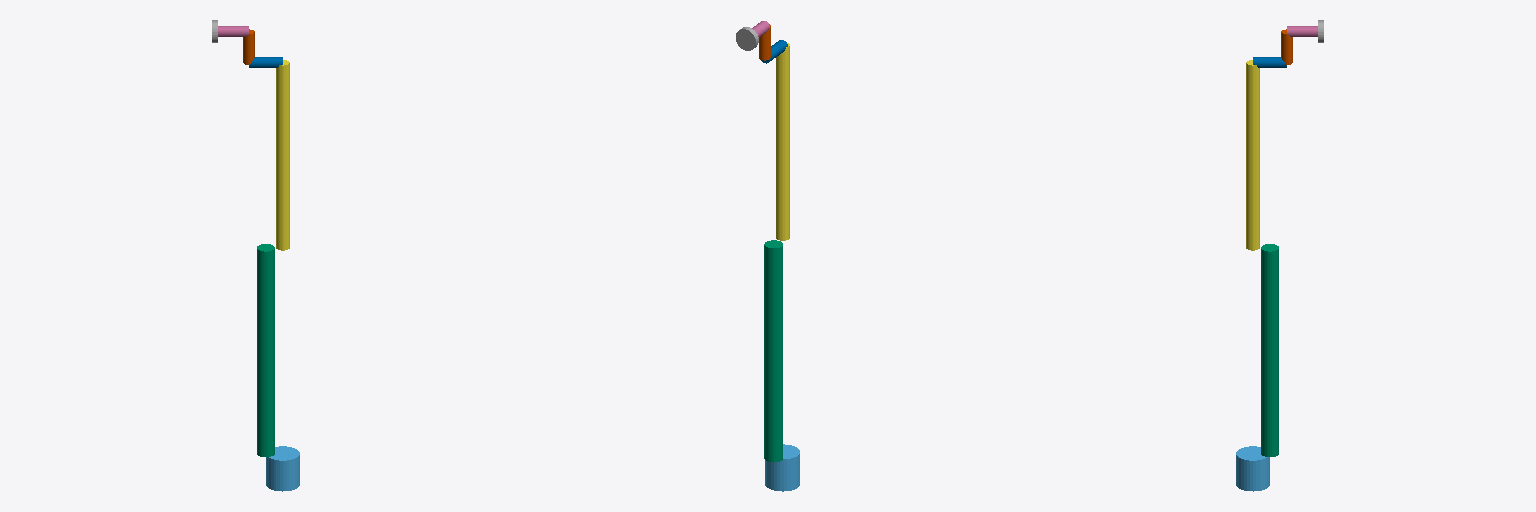
robot.urdf — universal_robot_extended:
<?xml version="1.0" ?>
<robot name="universal_robot_extended">

  <link name="base_link"/>

  <joint name="shoulder_pan_joint" type="revolute">
    <parent link="base_link"/>
    <child link="shoulder_link"/>
    <origin rpy="0.0 0.0 0.0" xyz="0.0 0.0 0.3"/>
    <axis xyz="0.0 0.0 1.0"/>
    <limit effort="10.0" lower="-3.14" upper="3.14" velocity="1.0"/>
  </joint>

  <link name="shoulder_link">
    <visual>
      <geometry>
        <cylinder length="0.3" radius="0.15"/>
      </geometry>
      <origin rpy="0.0 0.0 0.0" xyz="0.0 0.0 -0.15"/>
    </visual>
    <collision>
      <geometry>
        <cylinder length="0.3" radius="0.15"/>
      </geometry>
      <origin rpy="0.0 0.0 0.0" xyz="0.0 0.0 -0.15"/>
    </collision>
  </link>

  <joint name="shoulder_lift_joint" type="revolute">
    <parent link="shoulder_link"/>
    <child link="upper_arm_link"/>
    <origin rpy="0.0 0.0 0.0" xyz="0.0 0.15 0.0"/>
    <axis xyz="0.0 1.0 0.0"/>
    <limit effort="10.0" lower="-3.14" upper="3.14" velocity="1.0"/>
  </joint>

  <link name="upper_arm_link">
    <visual>
      <geometry>
        <cylinder length="2.0" radius="0.08"/>
      </geometry>
      <origin rpy="0.0 0.0 0.0" xyz="0.0 0.0 1.0"/>
    </visual>
    <collision>
      <geometry>
        <cylinder length="2.0" radius="0.08"/>
      </geometry>
      <origin rpy="0.0 0.0 0.0" xyz="0.0 0.0 1.0"/>
    </collision>
  </link>

  <joint name="elbow_joint" type="revolute">
    <parent link="upper_arm_link"/>
    <child link="forearm_link"/>
    <origin rpy="0.0 0.0 0.0" xyz="0.0 -0.15 2.0"/>
    <axis xyz="0.0 -1.0 0.0"/>
    <limit effort="10.0" lower="-3.14" upper="3.14" velocity="1.0"/>
  </joint>

  <link name="forearm_link">
    <visual>
      <geometry>
        <cylinder length="1.8" radius="0.06"/>
      </geometry>
      <origin rpy="0.0 0.0 0.0" xyz="0.0 0.0 0.9"/>
    </visual>
    <collision>
      <geometry>
        <cylinder length="1.8" radius="0.06"/>
      </geometry>
      <origin rpy="0.0 0.0 0.0" xyz="0.0 0.0 0.9"/>
    </collision>
  </link>

  <joint name="wrist_1_joint" type="revolute">
    <parent link="forearm_link"/>
    <child link="wrist_1_link"/>
    <origin rpy="0.0 0.0 0.0" xyz="0.0 0.0 1.8"/>
    <axis xyz="0.0 1.0 0.0"/>
    <limit effort="10.0" lower="-3.14" upper="3.14" velocity="1.0"/>
  </joint>

  <link name="wrist_1_link">
    <visual>
      <geometry>
        <cylinder length="0.3" radius="0.05"/>
      </geometry>
      <origin rpy="-1.57 0.0 0.0" xyz="0.0 0.15 0.0"/>
    </visual>
    <collision>
      <geometry>
        <cylinder length="0.3" radius="0.05"/>
      </geometry>
      <origin rpy="-1.57 0.0 0.0" xyz="0.0 0.15 0.0"/>
    </collision>
  </link>

  <joint name="wrist_2_joint" type="revolute">
    <parent link="wrist_1_link"/>
    <child link="wrist_2_link"/>
    <origin rpy="0.0 0.0 0.0" xyz="0.0 0.3 0.0"/>
    <axis xyz="0.0 0.0 1.0"/>
    <limit effort="10.0" lower="-3.14" upper="3.14" velocity="1.0"/>
  </joint>

  <link name="wrist_2_link">
    <visual>
      <geometry>
        <cylinder length="0.3" radius="0.05"/>
      </geometry>
      <origin rpy="0.0 0.0 0.0" xyz="0.0 0.0 0.15"/>
    </visual>
    <collision>
      <geometry>
        <cylinder length="0.3" radius="0.05"/>
      </geometry>
      <origin rpy="0.0 0.0 0.0" xyz="0.0 0.0 0.15"/>
    </collision>
  </link>

  <joint name="wrist_3_joint" type="revolute">
    <parent link="wrist_2_link"/>
    <child link="wrist_3_link"/>
    <origin rpy="0.0 0.0 0.0" xyz="0.0 0.0 0.3"/>
    <axis xyz="0.0 1.0 0.0"/>
    <limit effort="10.0" lower="-3.14" upper="3.14" velocity="1.0"/>
  </joint>

  <link name="wrist_3_link">
    <visual>
      <geometry>
        <cylinder length="0.3" radius="0.05"/>
      </geometry>
      <origin rpy="-1.57 0.0 0.0" xyz="0.0 0.15 0.0"/>
    </visual>
    <collision>
      <geometry>
        <cylinder length="0.3" radius="0.05"/>
      </geometry>
      <origin rpy="-1.57 0.0 0.0" xyz="0.0 0.15 0.0"/>
    </collision>
  </link>

  <joint name="ee_fixed_joint" type="fixed">
    <parent link="wrist_3_link"/>
    <child link="ee_link"/>
    <origin rpy="0.0 0.0 1.57" xyz="0.0 0.3 0.0"/>
  </joint>

  <link name="ee_link">
    <visual>
      <geometry>
        <cylinder length="0.05" radius="0.1"/>
      </geometry>
      <origin rpy="0.0 -1.57 0.0" xyz="0.0 0.0 0.0"/>
    </visual>
    <collision>
      <geometry>
        <cylinder length="0.05" radius="0.1"/>
      </geometry>
      <origin rpy="0.0 -1.57 0.0" xyz="0.0 0.0 0.0"/>
    </collision>
  </link>

</robot>

--- Facts derived from the render (not from the file) ---
Views: 3 orthographic renders of the robot side by side, from view 1: azimuth 90°, elevation 25°; view 2: azimuth 150°, elevation 25°; view 3: azimuth 270°, elevation 25°.
Model universal_robot_extended with 8 links and 7 joints (6 revolute, 1 fixed), rooted at base_link, posed every joint at zero.
Links seen in each view (by area): view 1: upper_arm_link, forearm_link, shoulder_link; view 2: upper_arm_link, forearm_link, shoulder_link; view 3: upper_arm_link, forearm_link, shoulder_link.
Boxes of the visible links, x1=… form: upper_arm_link: x1=257, y1=244, x2=274, y2=456; forearm_link: x1=276, y1=60, x2=289, y2=250; shoulder_link: x1=266, y1=446, x2=299, y2=491; upper_arm_link: x1=764, y1=240, x2=782, y2=461; forearm_link: x1=776, y1=43, x2=789, y2=240; shoulder_link: x1=765, y1=444, x2=799, y2=491; upper_arm_link: x1=1261, y1=244, x2=1278, y2=456; forearm_link: x1=1246, y1=60, x2=1259, y2=250; shoulder_link: x1=1236, y1=446, x2=1269, y2=491.
Size in the robot's own frame: 0.3 by 0.7751 by 4.5 metres.
Geometry: primitives only (box / cylinder / sphere), no mesh files.
